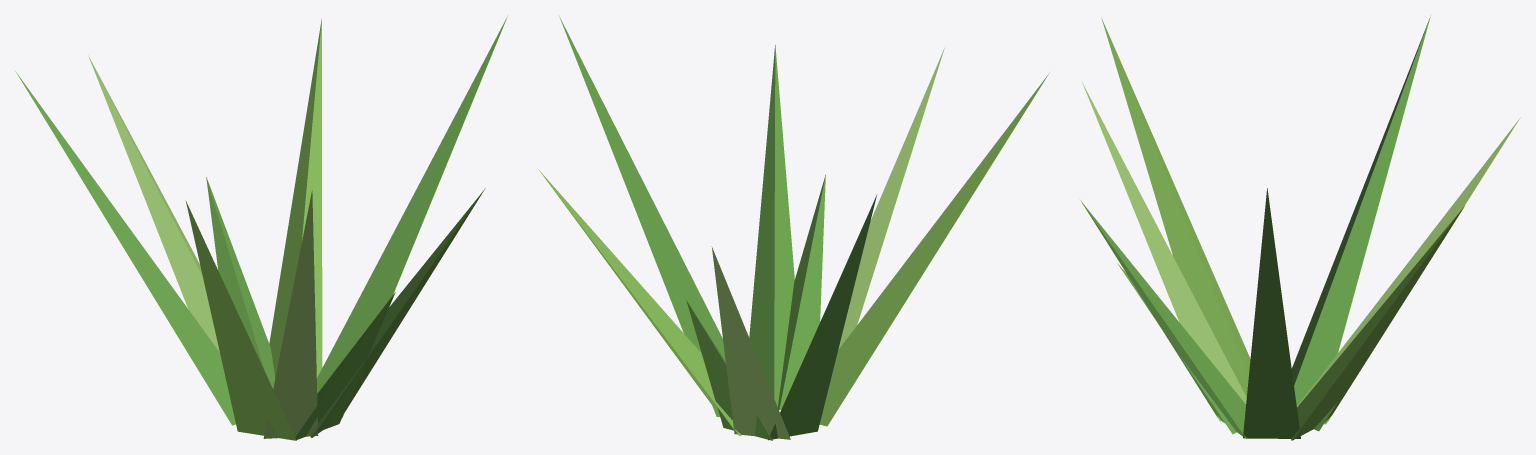
Rendered from grass-clump.glb.
3 views of the same model, side by side, from view 1: azimuth 30°, elevation 25°; view 2: azimuth 150°, elevation 25°; view 3: azimuth 270°, elevation 25° (orthographic). The views are drawn at different scales.
Parts seen in each view (by area): view 1: grass-clump; view 2: grass-clump; view 3: grass-clump.
Part boxes in pixels (x1,y1,x2,y2): grass-clump: (15,16,507,440); grass-clump: (539,16,1049,440); grass-clump: (1080,15,1520,440).
Size of the model in its own units: 0.4809 by 0.3932 by 0.4699.
